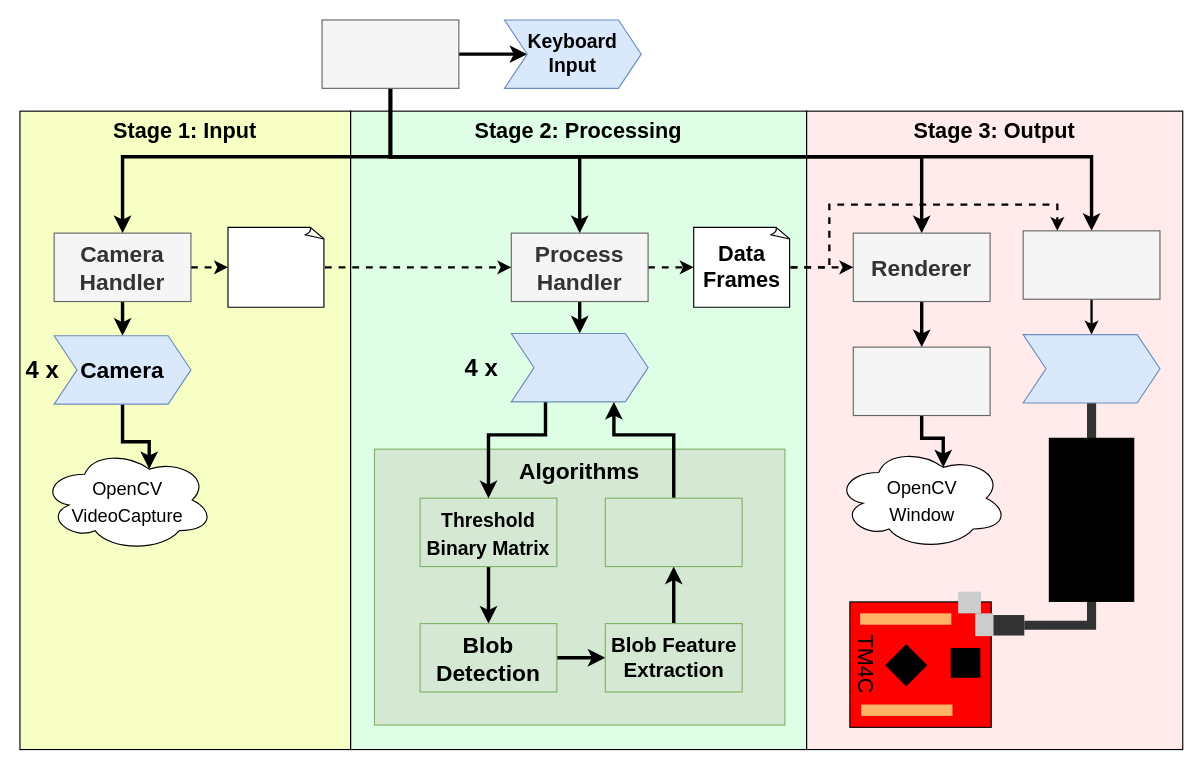
Image size: 1203x770. Some labels were removed from this diagram. The centre of each missing label's shape, as x and y in pixels:
ALT-F4 Main: (x=390, y=53)
Best Blob Scoring: (x=673, y=532)
Process: (x=579, y=367)
Raw Images: (x=276, y=266)
start 254 300 250 140 stop: (x=1091, y=519)
UART: (x=1091, y=368)
UART Handler: (x=1091, y=264)
Window: (x=921, y=381)
